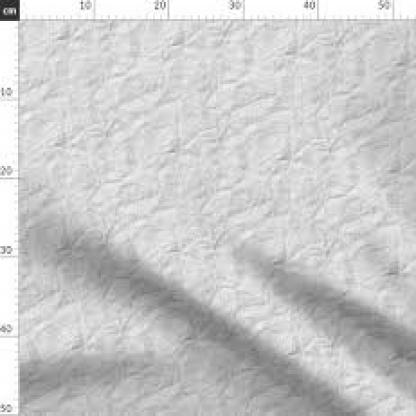paper: (16, 15, 414, 414)
